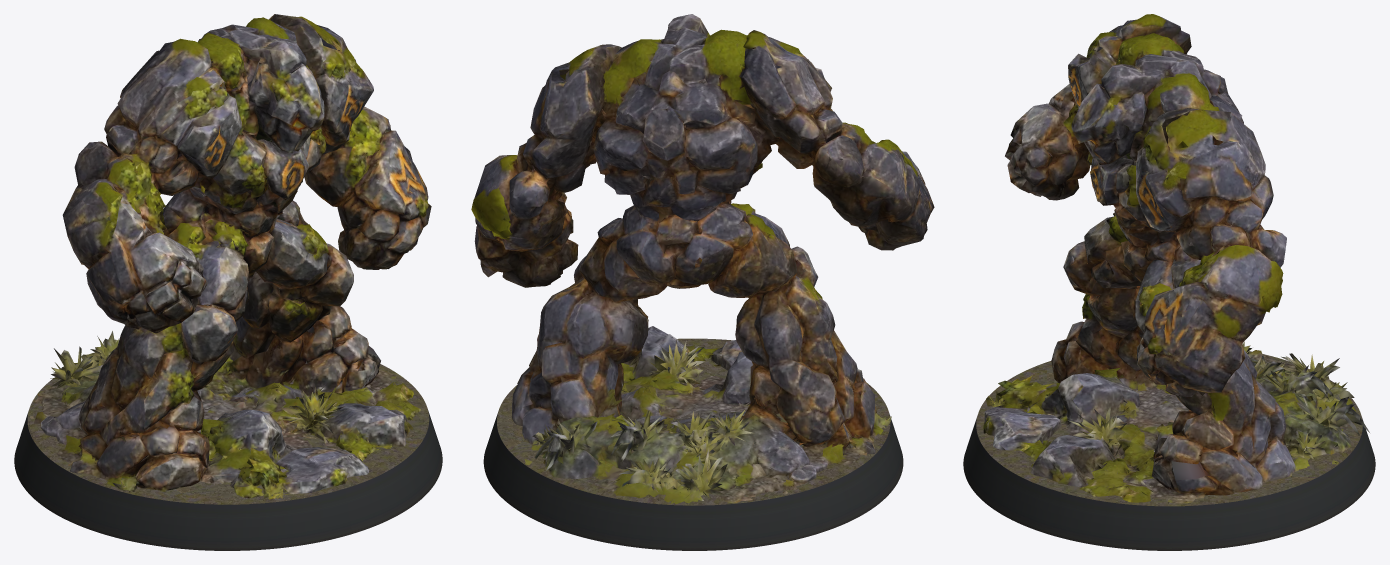
Rendered from golem.glb.
The picture shows the model from 3 angles, left to right: view 1: azimuth 30°, elevation 25°; view 2: azimuth 150°, elevation 25°; view 3: azimuth 270°, elevation 25°; orthographic projection. The views are drawn at different scales.
Bounding box in the file's own units: 0.9324 × 1 × 0.8813.
3 materials, 3 textured.
